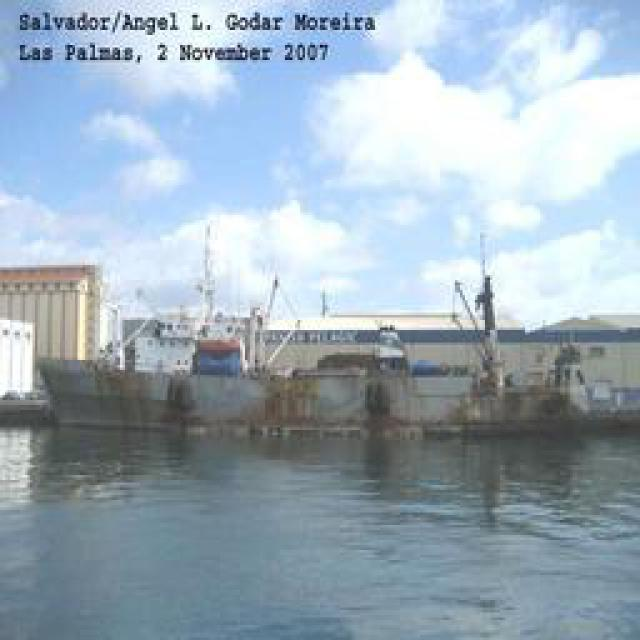Ship: (192, 219, 245, 399)
